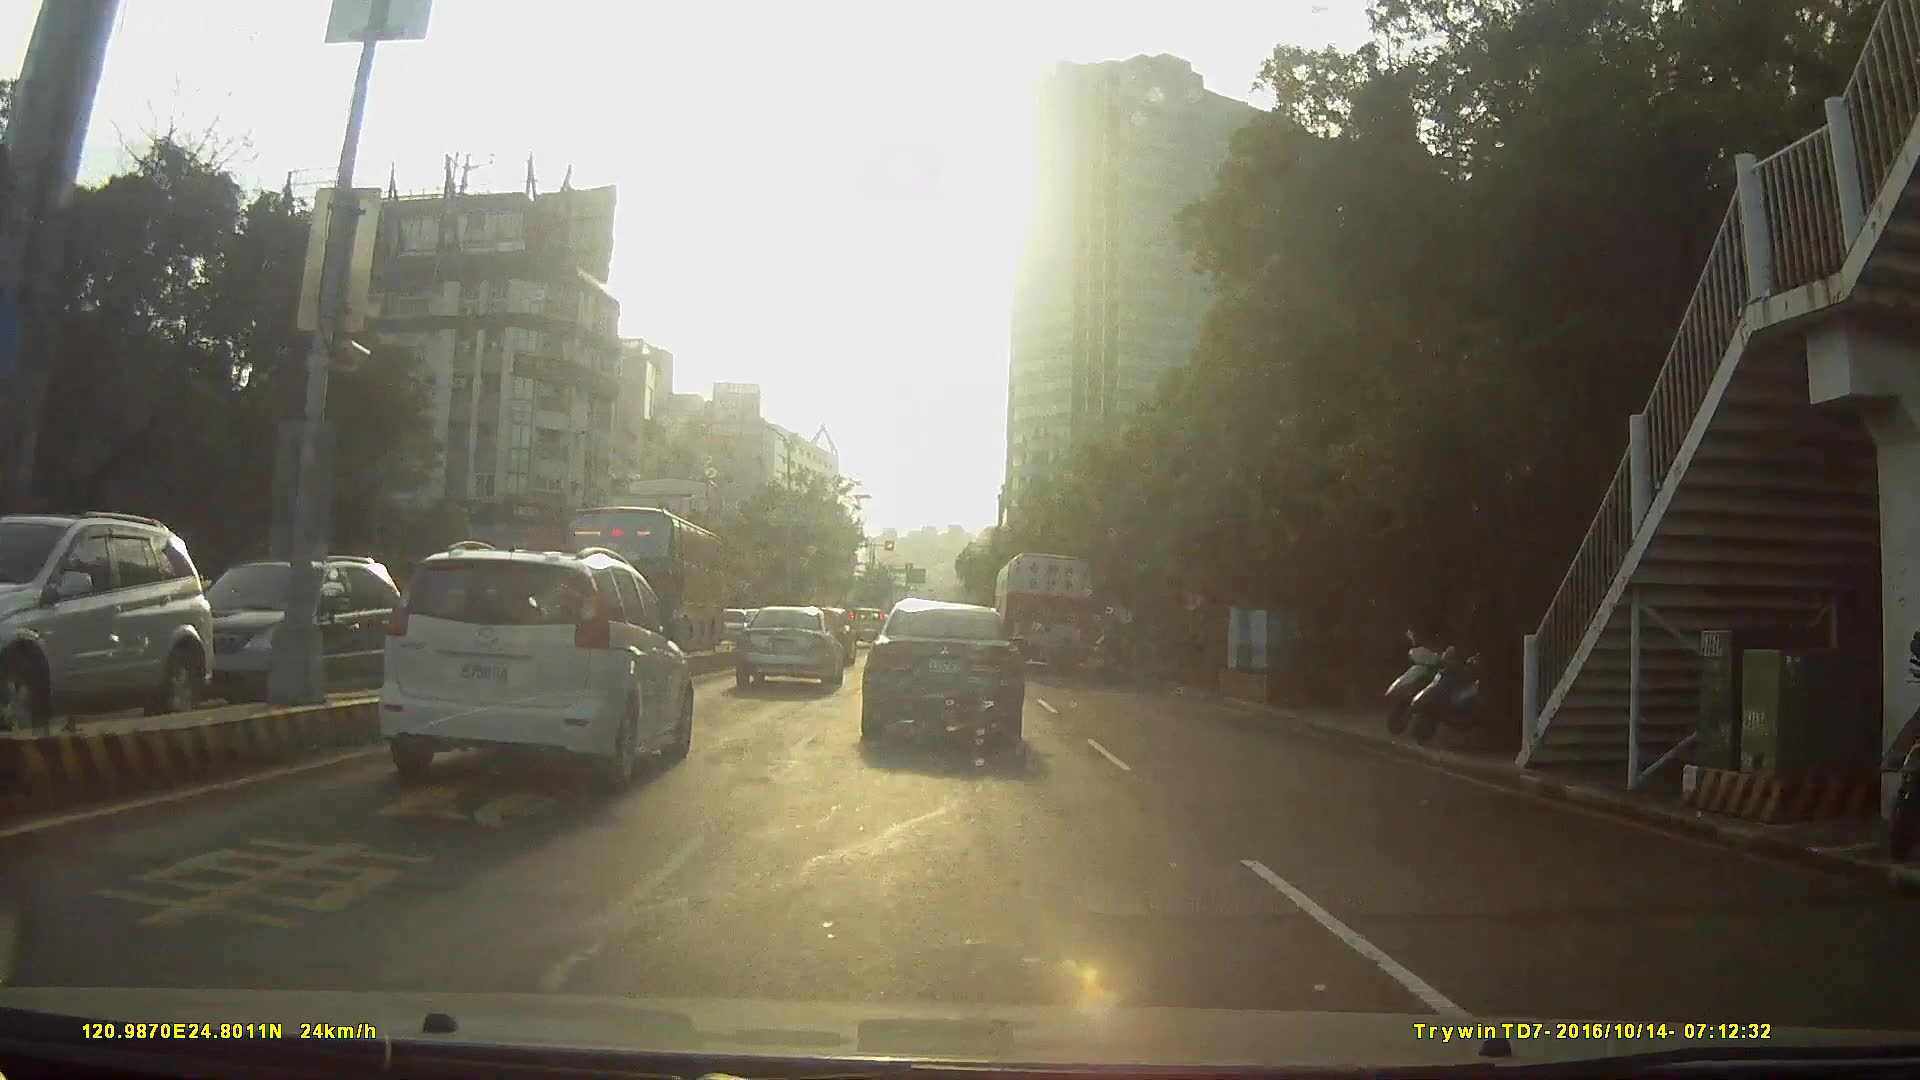vehicle: (251, 556, 684, 868), (378, 542, 694, 795), (1, 513, 252, 746), (157, 556, 411, 717), (858, 593, 1025, 762), (553, 506, 717, 655), (993, 554, 1098, 680), (732, 607, 843, 694), (843, 607, 890, 649)
